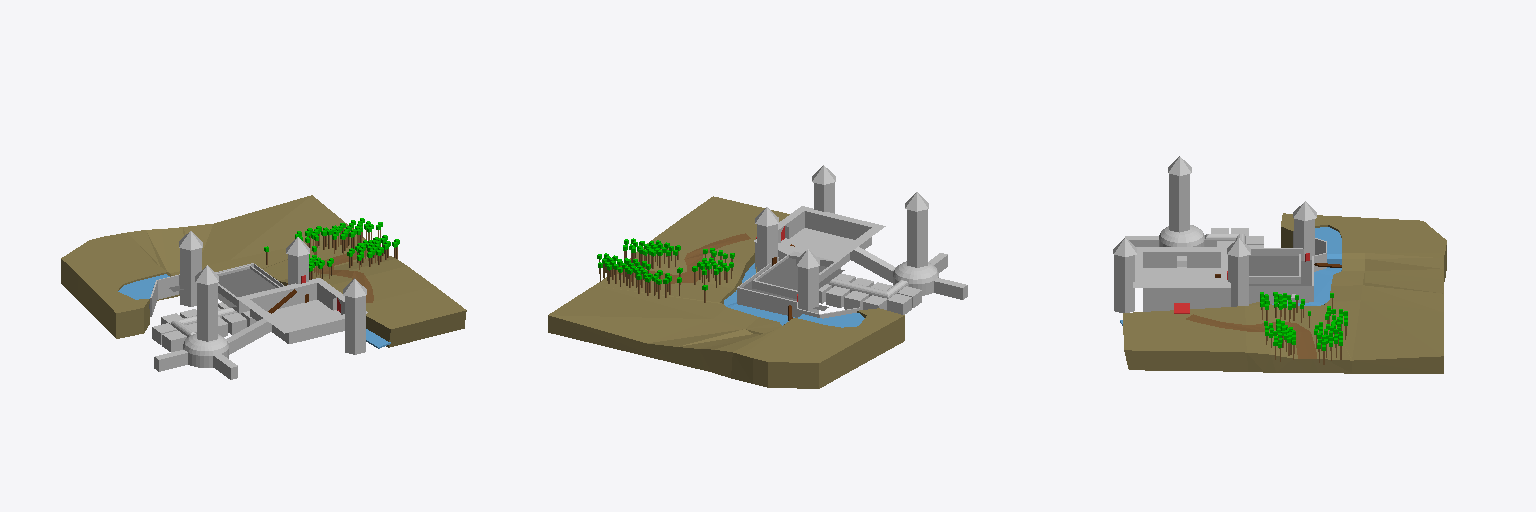
File: ChapterOneFullBlockout.obj
3 renders of one model, left to right at view 1: azimuth 30°, elevation 25°; view 2: azimuth 150°, elevation 25°; view 3: azimuth 270°, elevation 25°, orthographic.
Parts seen in each view (by area): view 1: ChapterOneFullBlockout; view 2: ChapterOneFullBlockout; view 3: ChapterOneFullBlockout.
Boxes of the visible parts, box(x1,y1,x2,y2) form: ChapterOneFullBlockout: box(61, 195, 466, 379); ChapterOneFullBlockout: box(548, 165, 967, 388); ChapterOneFullBlockout: box(1113, 156, 1446, 373).
Bounding box in the file's own units: 279 × 93.04 × 272.